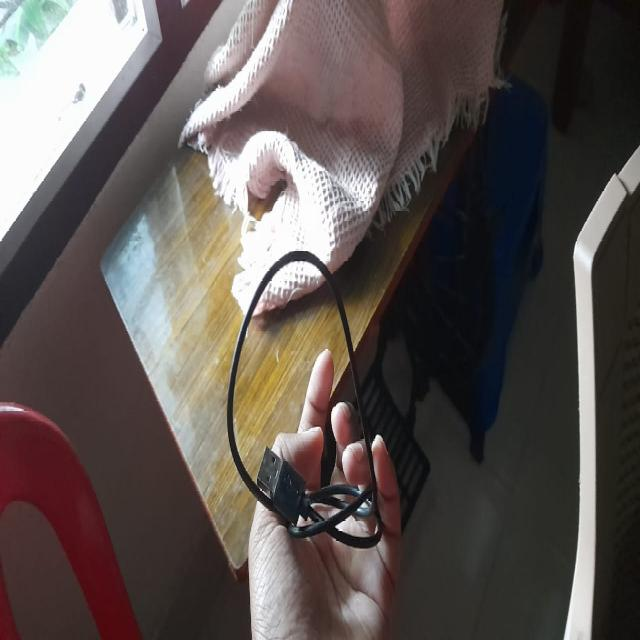Charger - Recyclable: (226, 247, 383, 550)
